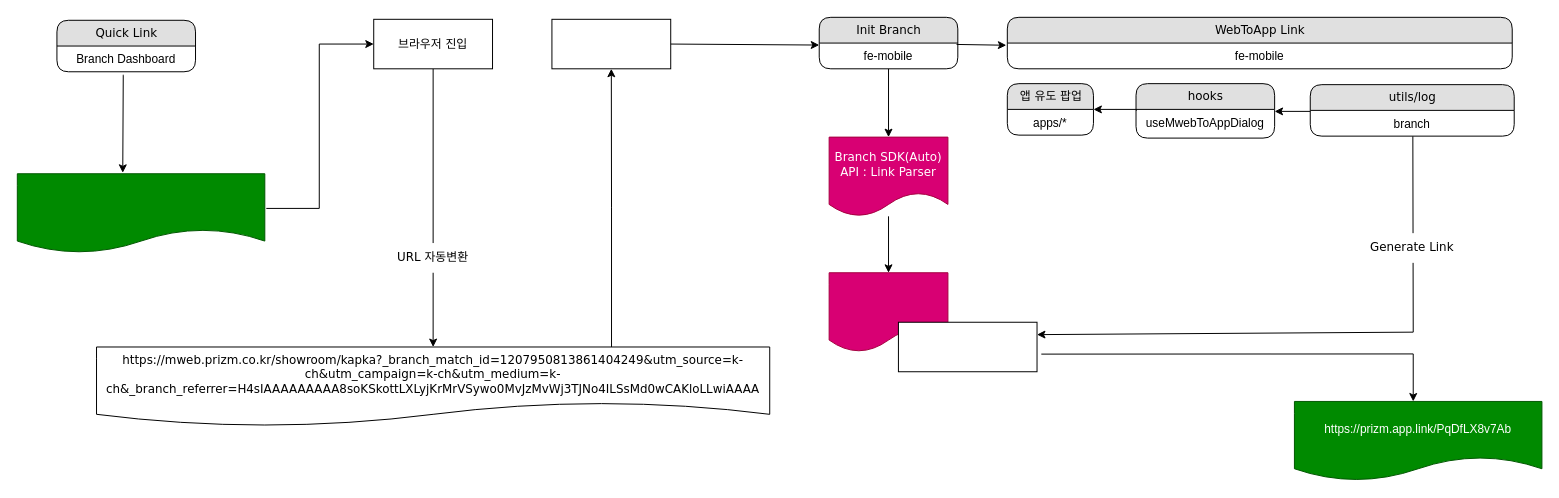
This 1559x498 diagram has some shape labels left out. Here are the shapes that lost their labels. From the top down, the centre of each, then its label:
At point (611, 43): "모바일웹 진입".
At point (140, 213): "https://prizm.app.link/YDk3XUvqWAb".
At point (888, 312): "Branch SDK(Auto) Storage Save".
At point (967, 346): "SDK 내 data 메서드로 접근가능".
